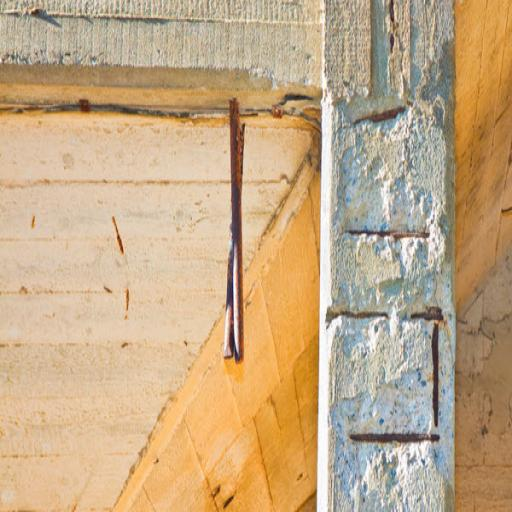spalling: (316, 27, 456, 512)
